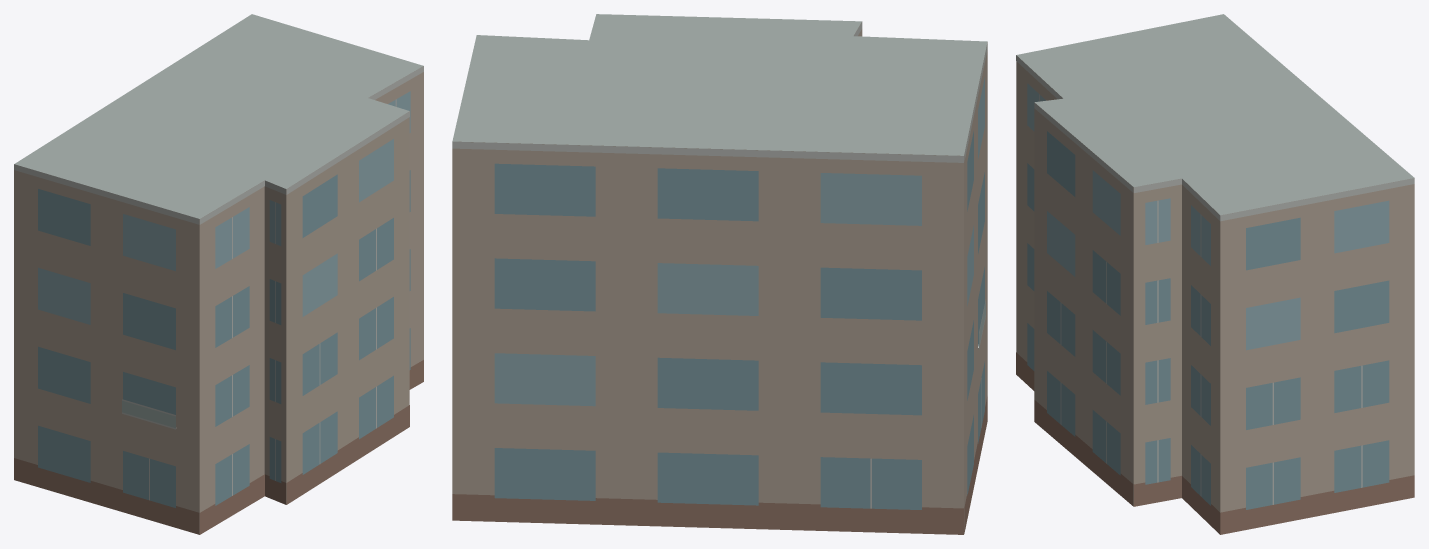
The model's file is survey-upis-32984424.glb.
The picture shows the model from 3 angles, left to right: view 1: azimuth 30°, elevation 25°; view 2: azimuth 150°, elevation 25°; view 3: azimuth 270°, elevation 25°; orthographic projection. The views are drawn at different scales.
Visible parts, largest first — view 1: survey-upis-32984424.tmp; view 2: survey-upis-32984424.tmp; view 3: survey-upis-32984424.tmp.
Boxes of the visible parts, left/top/right/bottom form: survey-upis-32984424.tmp: left=14, top=14, right=423, bottom=534; survey-upis-32984424.tmp: left=452, top=14, right=987, bottom=534; survey-upis-32984424.tmp: left=1016, top=14, right=1414, bottom=534.
Size of the model in its own units: 17.65 by 13.05 by 14.76.
